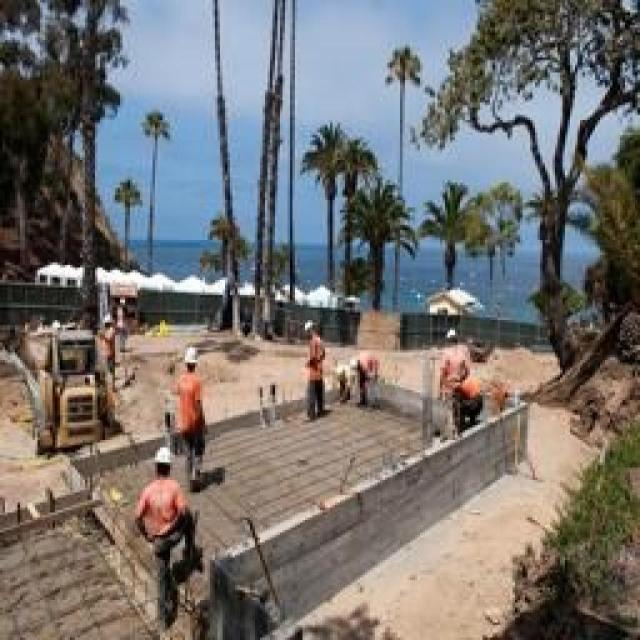Helmet: (126, 473, 201, 547), (166, 367, 220, 445), (295, 333, 333, 399), (432, 345, 466, 403), (178, 338, 218, 380), (146, 444, 196, 476), (441, 321, 479, 350), (359, 354, 389, 386), (464, 372, 494, 404), (293, 314, 329, 339), (346, 351, 371, 385), (449, 380, 467, 416), (332, 359, 354, 387)
